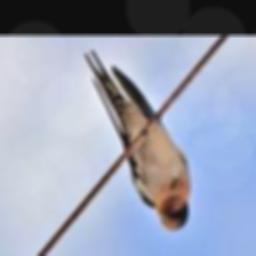Swallow: (85, 50, 192, 231)
